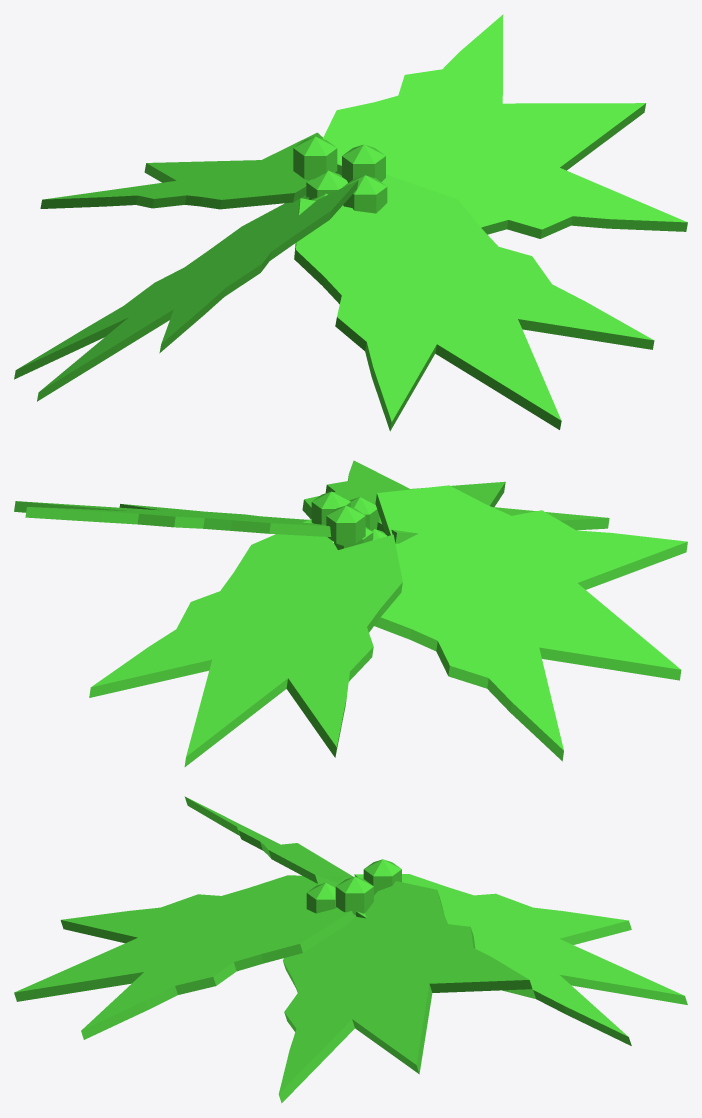
Rendered from HollyLeaves.fbx.
3 views of the same model, one above another, from view 1: azimuth 30°, elevation 25°; view 2: azimuth 150°, elevation 25°; view 3: azimuth 270°, elevation 25° (orthographic). The views are drawn at different scales.
Visible parts, largest first — view 1: HollyLeavesTemp; view 2: HollyLeavesTemp; view 3: HollyLeavesTemp.
Boxes of the visible parts, x1,y1,x2,y2 form: HollyLeavesTemp: (14, 14, 687, 431); HollyLeavesTemp: (14, 460, 687, 766); HollyLeavesTemp: (14, 796, 687, 1103).
Size of the model in its own units: 445 by 125 by 443.
